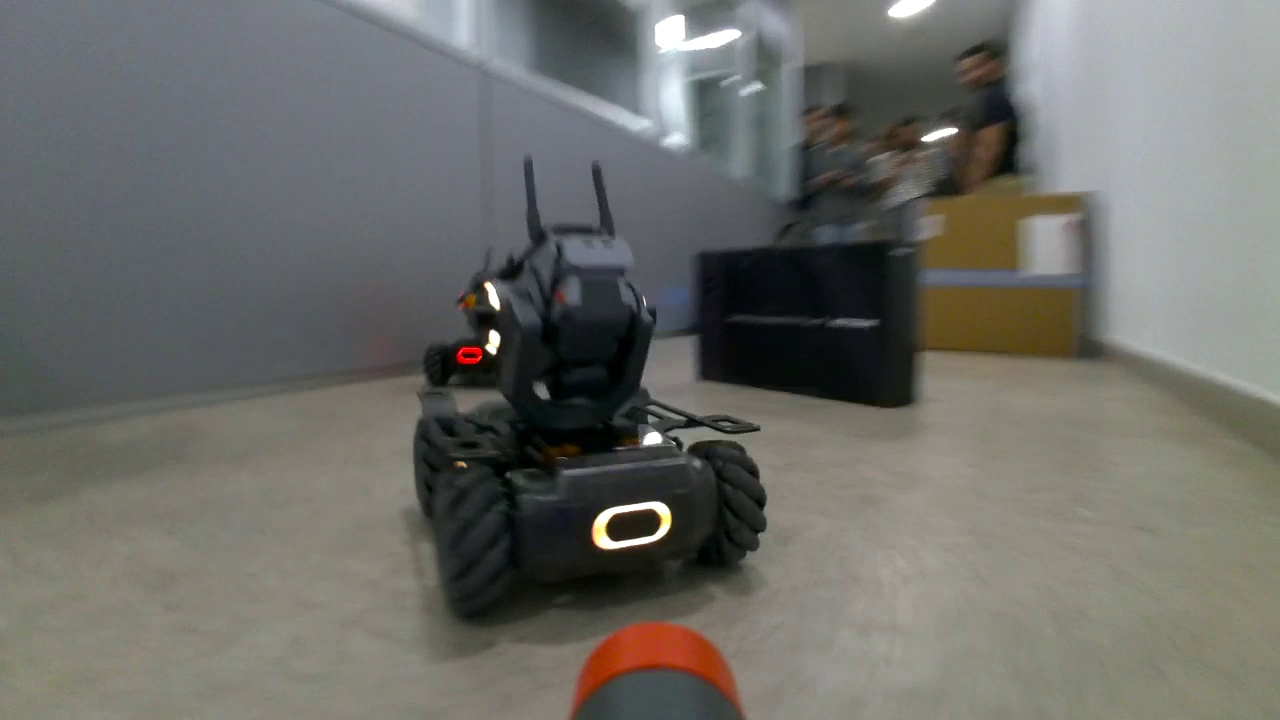robot: (402, 217, 771, 630)
